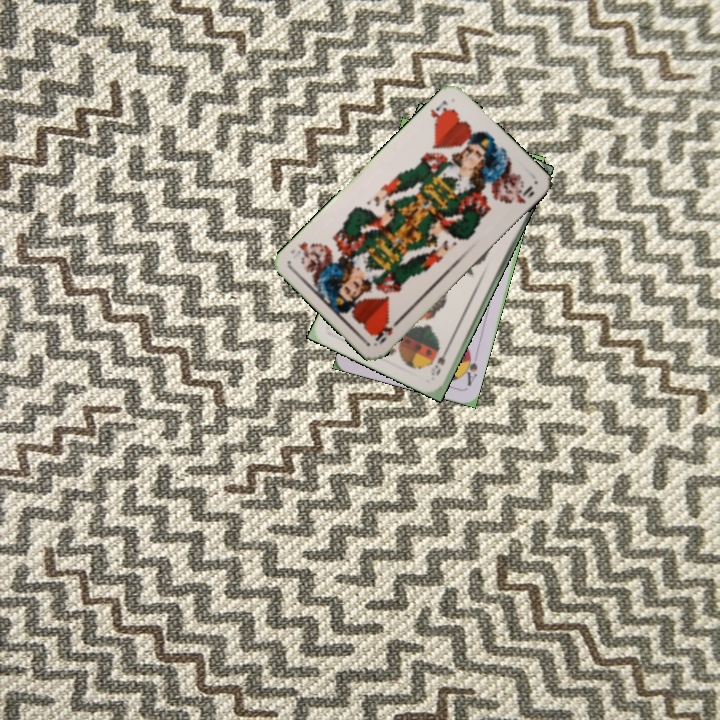HO: (371, 314, 404, 347), (427, 96, 452, 128)
SA: (459, 348, 480, 388)
SO: (427, 342, 452, 378)
